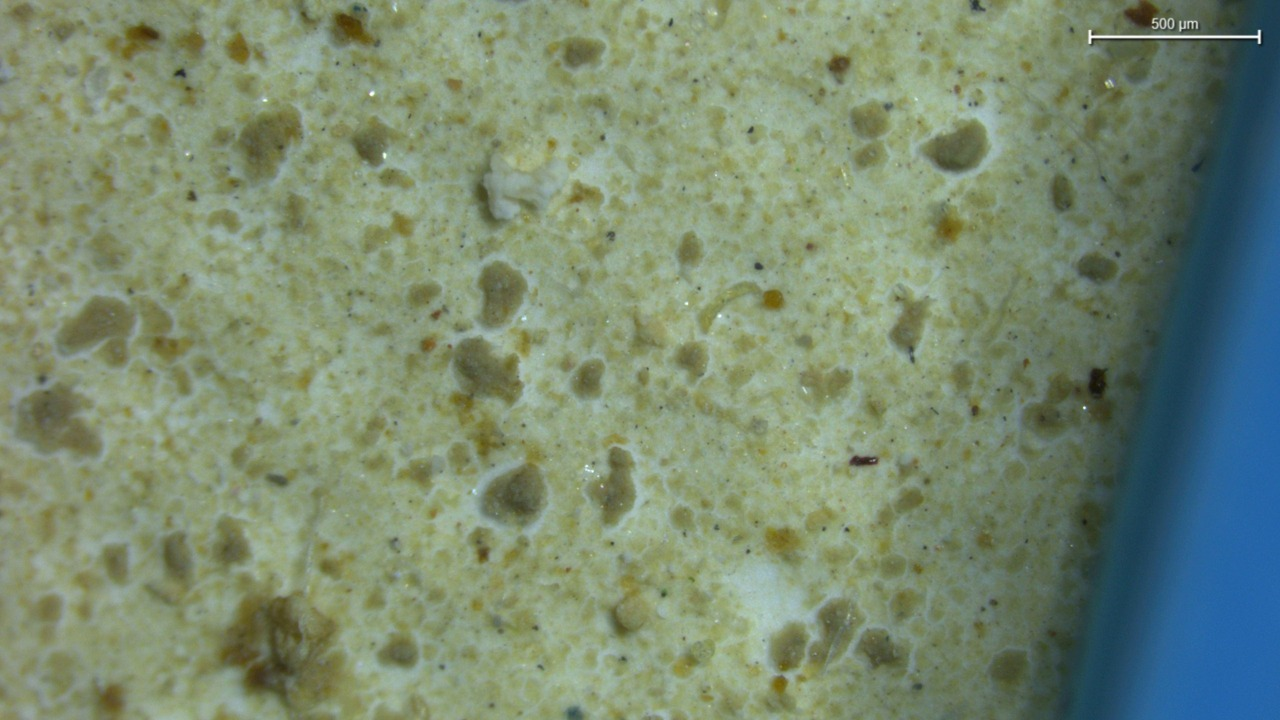microplastic_fragment: (483, 157, 565, 220), (614, 596, 650, 633)
